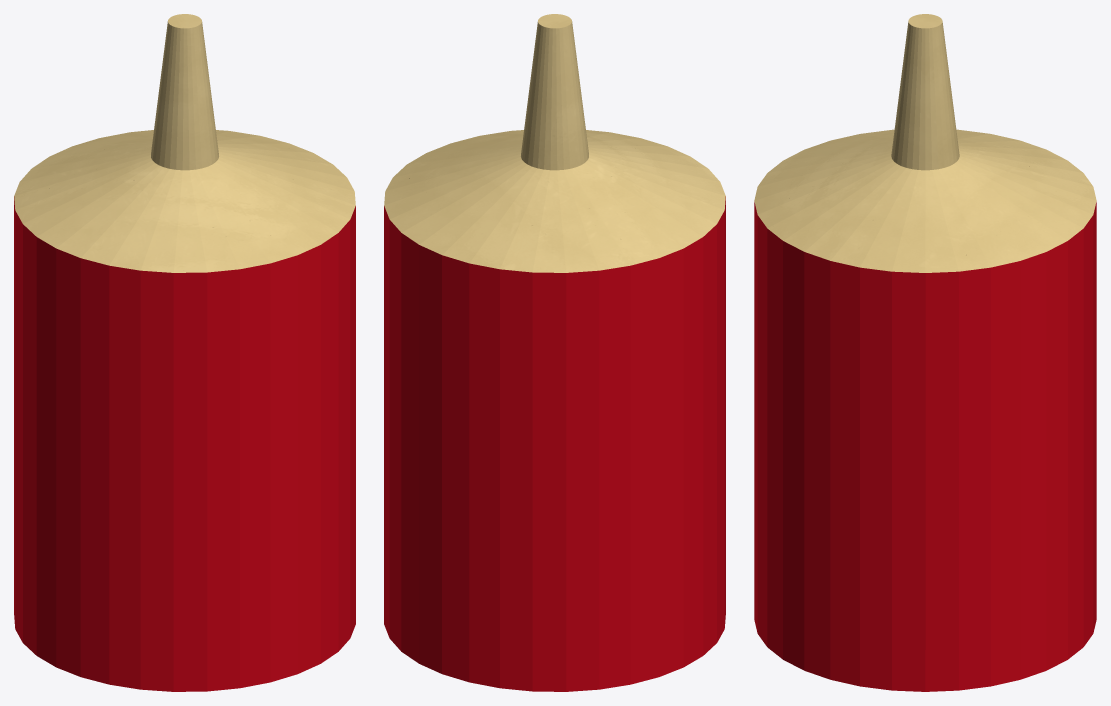
Rendered from salotto_luci_su_tv.fbx.
The picture shows the model from 3 angles, left to right: view 1: azimuth 30°, elevation 25°; view 2: azimuth 150°, elevation 25°; view 3: azimuth 270°, elevation 25°; orthographic projection.
Parts seen in each view (by area): view 1: luce; view 2: luce; view 3: luce.
Boxes of the visible parts, x1,y1,x2,y2 form: luce: (14, 14, 355, 691); luce: (384, 14, 725, 691); luce: (754, 14, 1096, 691).
Bounding box in the file's own units: 14 × 27 × 14.
